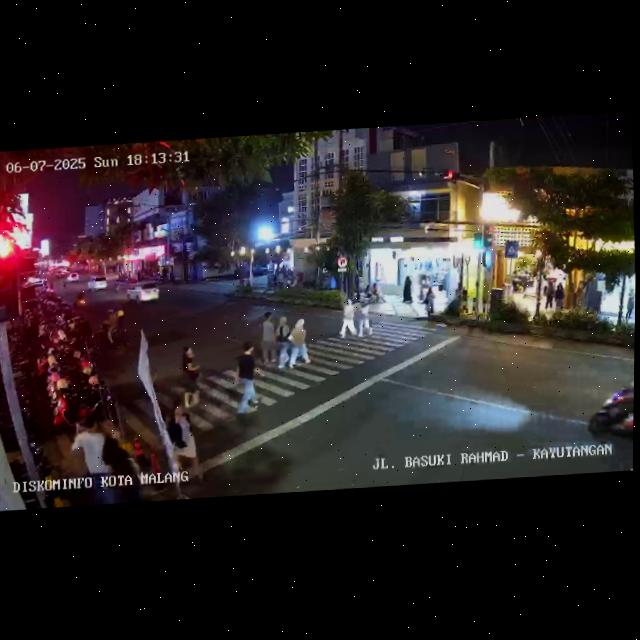car: (125, 281, 162, 307), (85, 274, 108, 293), (64, 269, 81, 285)
motorcycle: (586, 372, 634, 452)
person: (70, 415, 118, 506), (163, 390, 198, 481), (233, 342, 265, 420), (289, 315, 311, 372), (273, 315, 293, 374), (177, 343, 200, 394), (257, 311, 277, 358), (101, 307, 123, 346), (337, 299, 352, 340), (360, 298, 373, 338), (553, 279, 566, 311), (401, 275, 413, 307), (424, 284, 435, 318), (543, 278, 554, 311), (627, 291, 635, 321)
